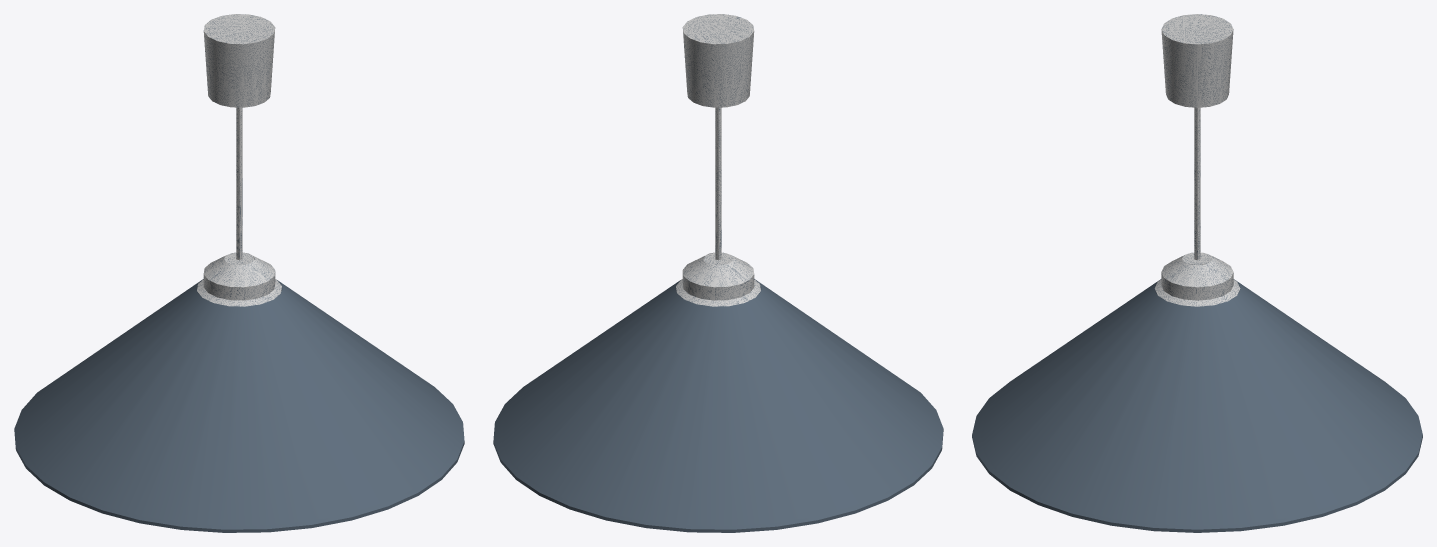
The model's file is Chand.fbx.
3 views of the same model, side by side, from view 1: azimuth 30°, elevation 25°; view 2: azimuth 150°, elevation 25°; view 3: azimuth 270°, elevation 25° (orthographic).
Parts seen in each view (by area): view 1: G_87_____011_1; view 2: G_87_____011_1; view 3: G_87_____011_1.
Boxes of the visible parts, left/top/right/bottom form: G_87_____011_1: left=14, top=14, right=464, bottom=532; G_87_____011_1: left=493, top=14, right=943, bottom=532; G_87_____011_1: left=972, top=14, right=1422, bottom=532.
Size of the model in its own units: 0.5812 by 0.5812 by 0.5812.
